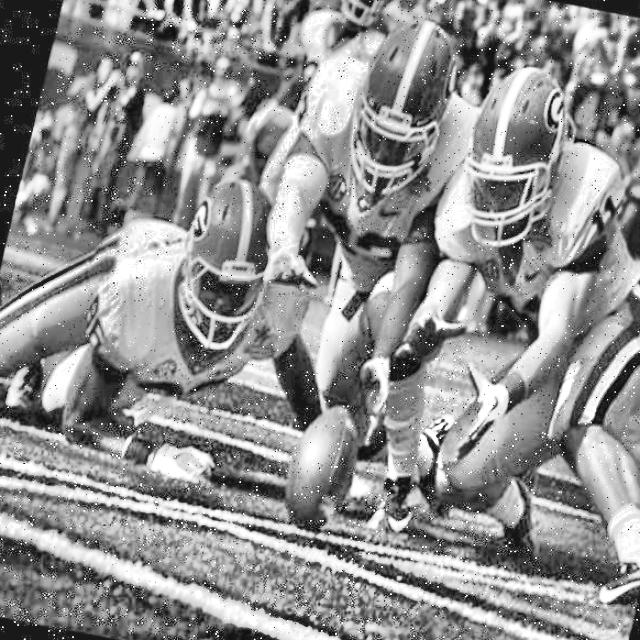Helmet: (440, 51, 589, 272), (334, 8, 471, 223), (156, 166, 290, 371)
